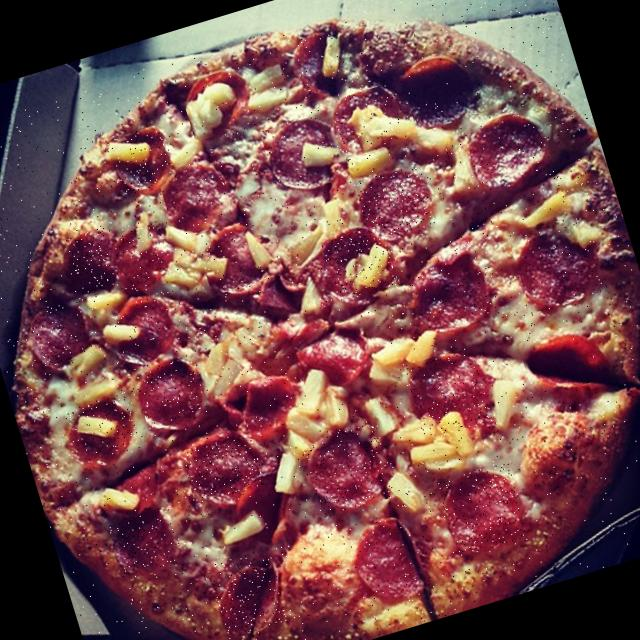Pepperoni: (300, 420, 398, 518), (508, 214, 603, 312), (342, 510, 433, 610), (399, 243, 495, 337), (438, 460, 530, 556), (404, 346, 494, 441), (464, 107, 560, 194), (518, 317, 620, 398), (207, 546, 290, 638), (194, 212, 284, 296), (398, 46, 484, 132), (291, 316, 382, 397), (330, 80, 416, 160), (180, 430, 266, 505), (260, 112, 342, 190), (354, 164, 436, 242), (158, 156, 235, 236), (106, 506, 188, 581), (322, 225, 399, 302), (132, 354, 210, 430), (64, 392, 142, 462), (105, 124, 178, 198), (178, 68, 250, 140), (235, 370, 308, 440), (29, 297, 100, 368), (108, 220, 176, 294), (105, 294, 175, 354), (292, 31, 352, 96), (64, 224, 119, 294)
Pizza: (0, 0, 640, 640)
